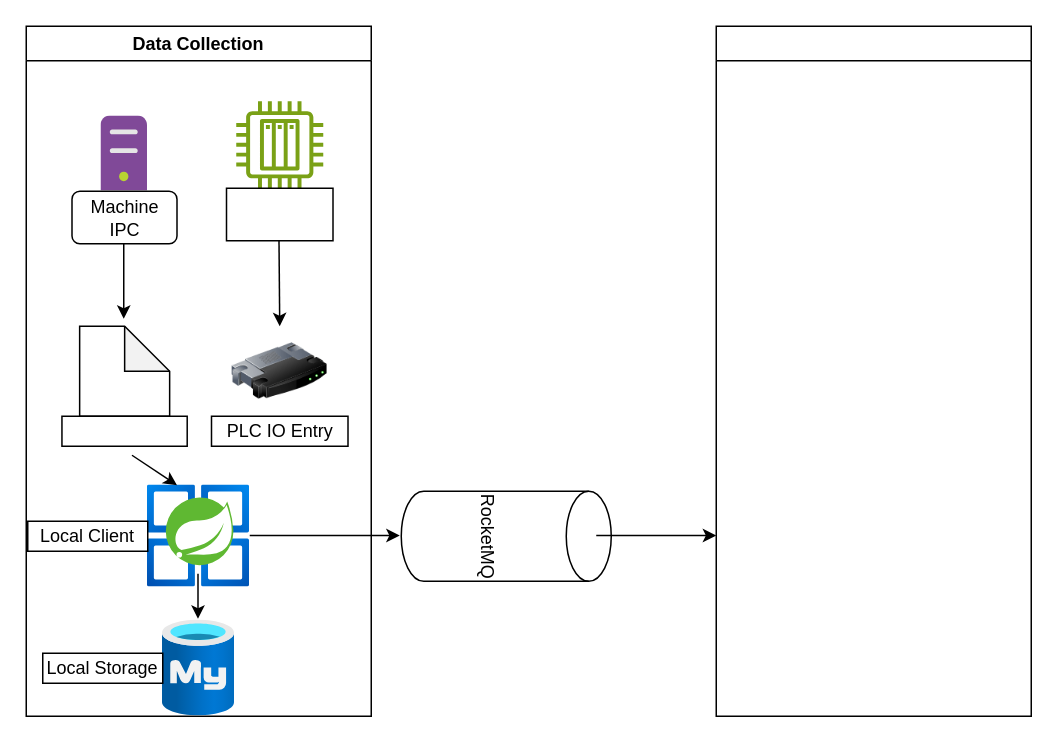
This 1058x743 diagram has some shape labels left out. The centre of each missing label's shape, as x and y in pixels:
"Data Analysis" belongs at pixel 873 370.
"Files" belongs at pixel 123 430.
"Machine PLC" belongs at pixel 279 214.
